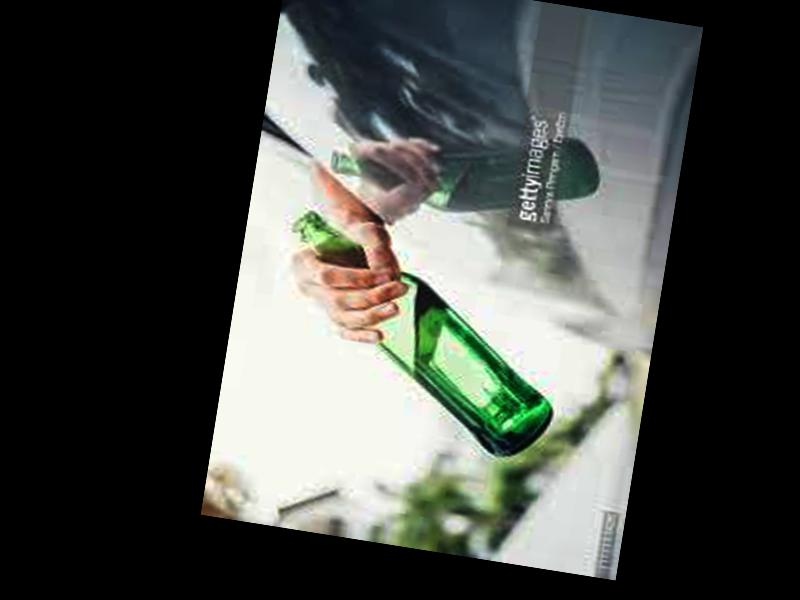Beer: (265, 206, 579, 461)
